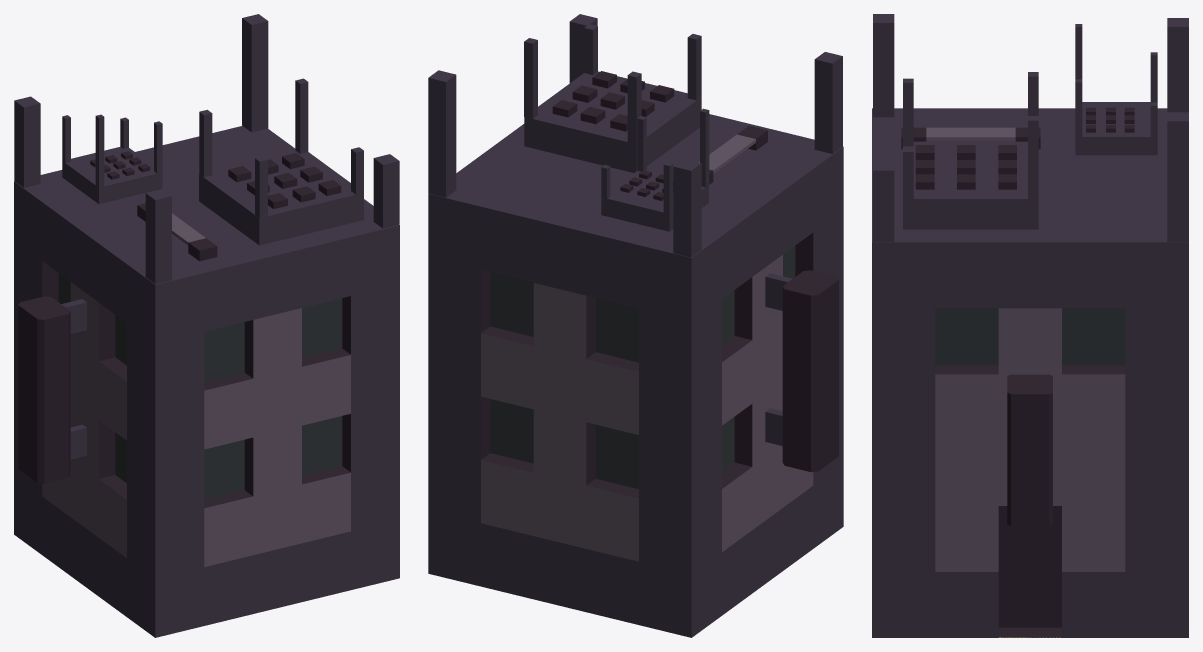
File: Tower-3-1.fbx
3 views of the same model, side by side, from view 1: azimuth 30°, elevation 25°; view 2: azimuth 150°, elevation 25°; view 3: azimuth 270°, elevation 25° (orthographic). The views are drawn at different scales.
Parts seen in each view (by area): view 1: Tower-3-1.001; view 2: Tower-3-1.001; view 3: Tower-3-1.001.
Part boxes in pixels (x1,y1,x2,y2): Tower-3-1.001: (14,14,399,637); Tower-3-1.001: (428,14,843,637); Tower-3-1.001: (872,14,1188,637).
Size of the model in its own units: 96.81 by 121 by 67.46.
